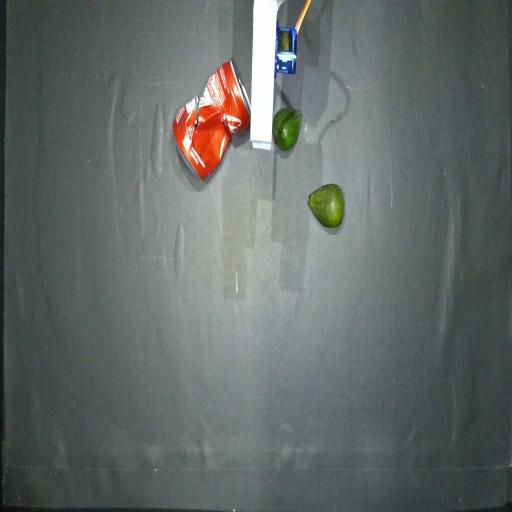higo: (307, 183, 344, 228), (273, 108, 301, 151)
lata_defectuoso: (173, 60, 250, 179)
